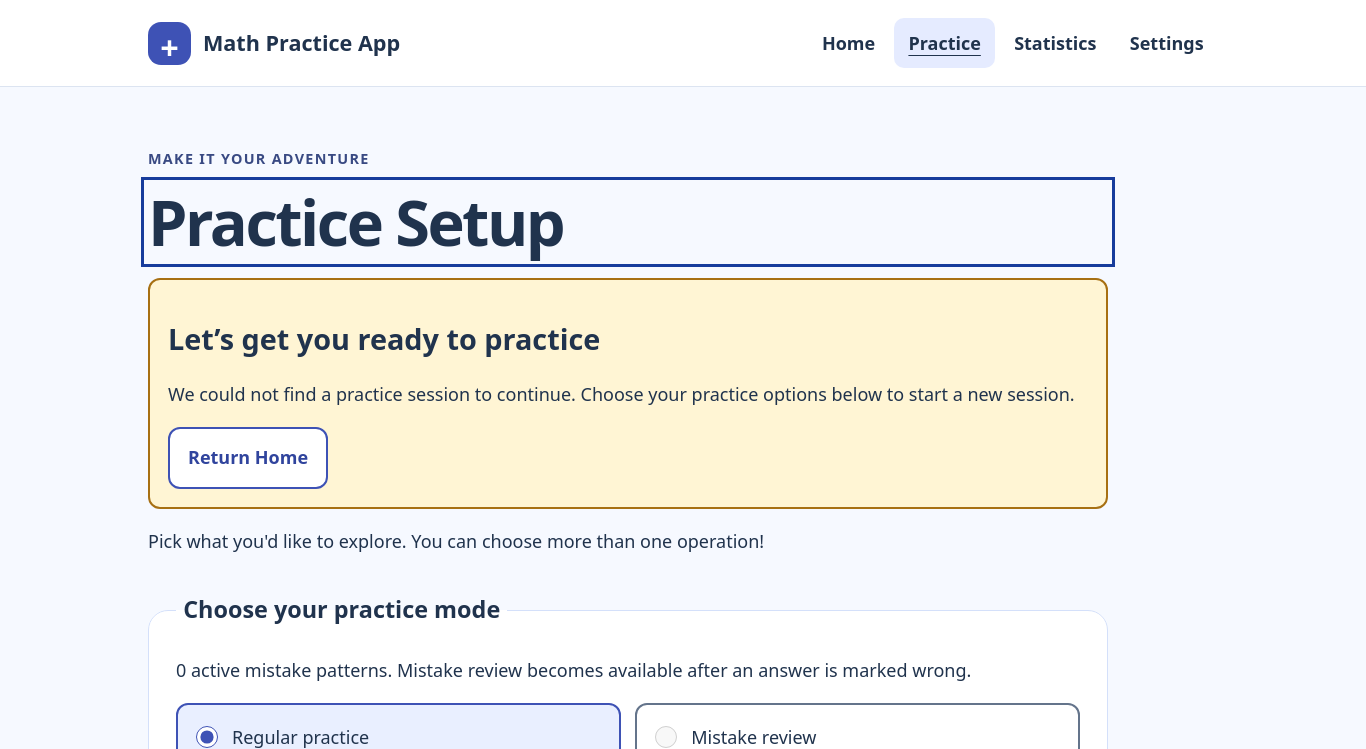
Test: error recovery › explains unavailable data at /practice/session and offers a working home link
Expected: the heading "Practice Setup" is shown, [148,179,563,264]
Expected: the message shows "We could not find", [168,382,1075,406]
Click the link "Return Home" at (248, 458), box [168,427,328,488]
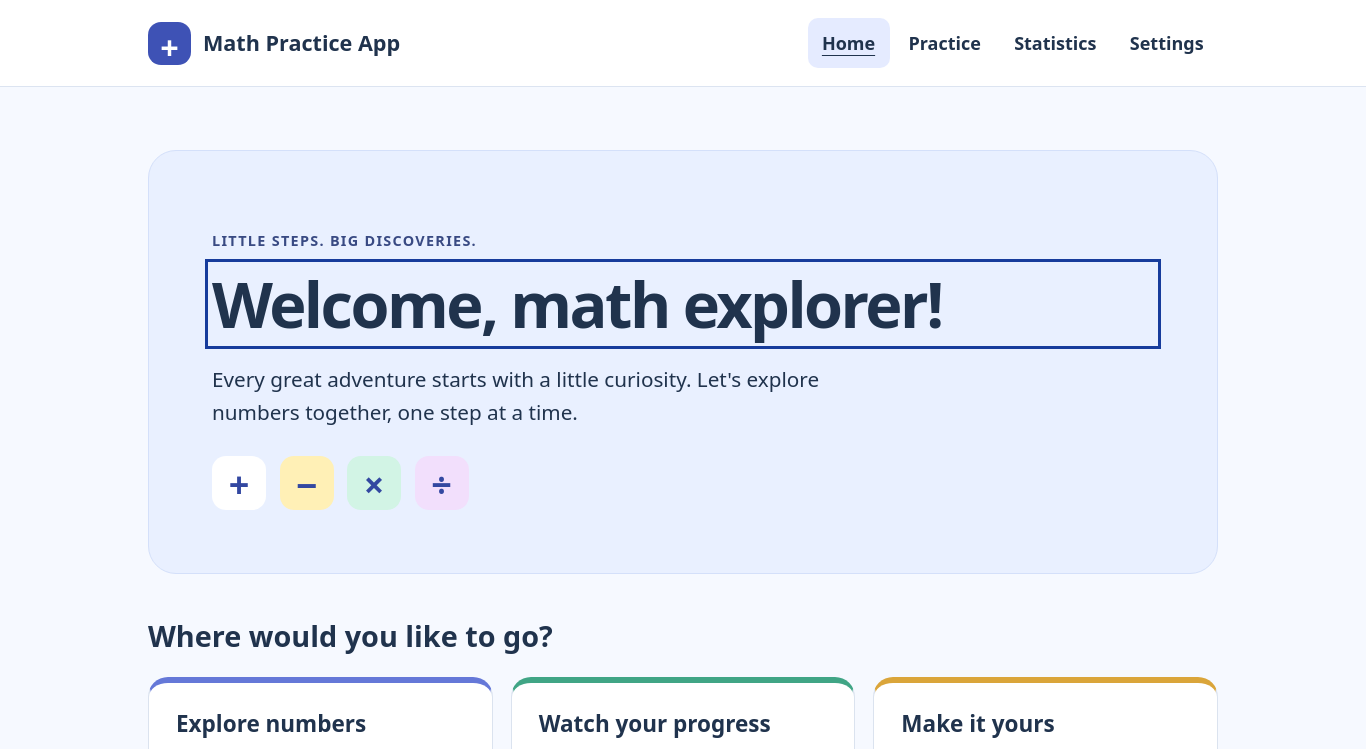
Now the heading "Welcome, math explorer!" is shown, box [212,261,942,346]
